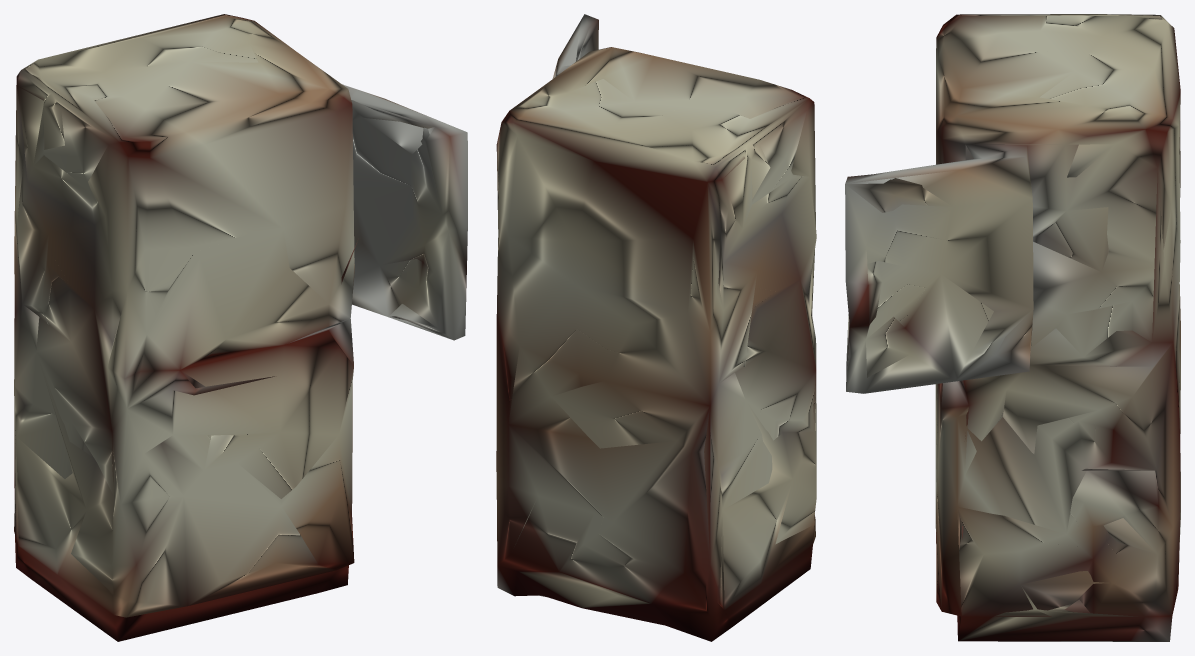
The model's file is gen3d-rusty-fridge-lod1.glb.
The picture shows the model from 3 angles, left to right: view 1: azimuth 30°, elevation 25°; view 2: azimuth 150°, elevation 25°; view 3: azimuth 270°, elevation 25°; orthographic projection. The views are drawn at different scales.
Visible parts, largest first — view 1: part_0; view 2: part_0; view 3: part_0.
Part boxes in pixels (x1,y1,x2,y2): part_0: [14, 14, 467, 641]; part_0: [496, 14, 816, 641]; part_0: [845, 14, 1180, 641].
Bounding box in the file's own units: 0.6176 × 0.9976 × 0.5773.
